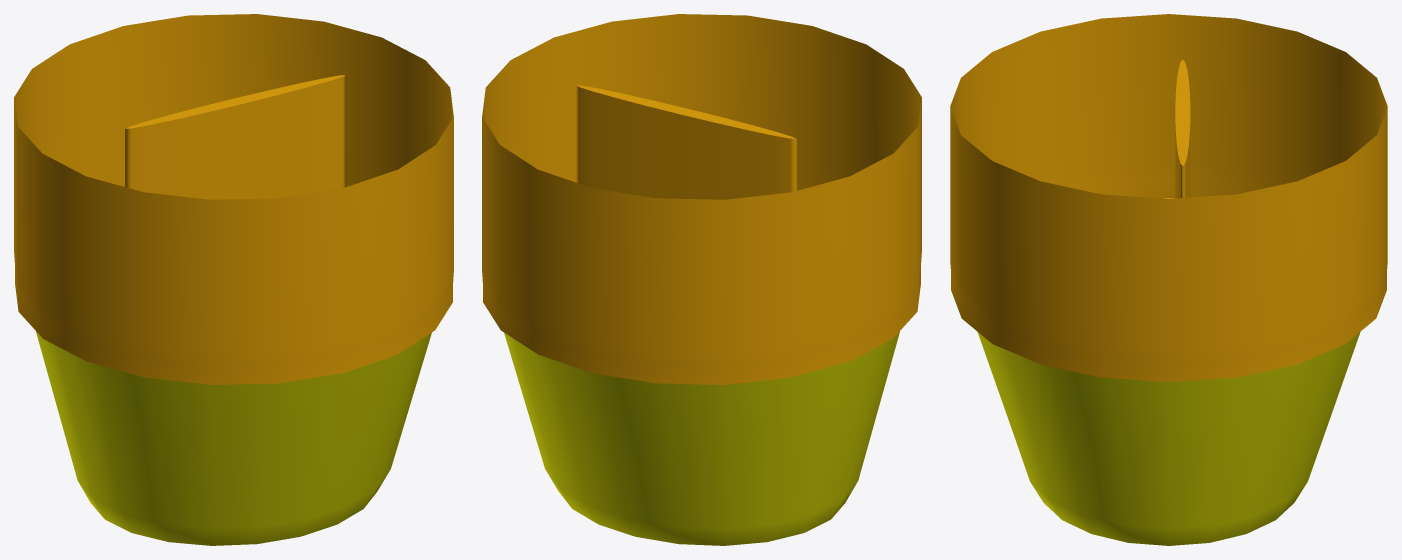
File: SetoFloor2EmergencyLight.fbx
3 views of the same model, side by side, from view 1: azimuth 30°, elevation 25°; view 2: azimuth 150°, elevation 25°; view 3: azimuth 270°, elevation 25° (orthographic).
Parts seen in each view (by area): view 1: Floor2EmergencyLight, RotatingLightPiece; view 2: Floor2EmergencyLight, RotatingLightPiece; view 3: Floor2EmergencyLight, RotatingLightPiece.
Part boxes in pixels (x1,y1,x2,y2): Floor2EmergencyLight: (14, 14, 453, 545); RotatingLightPiece: (125, 75, 346, 199); Floor2EmergencyLight: (482, 14, 921, 545); RotatingLightPiece: (575, 85, 796, 199); Floor2EmergencyLight: (950, 14, 1387, 545); RotatingLightPiece: (1175, 59, 1190, 198).
Size of the model in its own units: 28.75 by 27.34 by 28.75.
